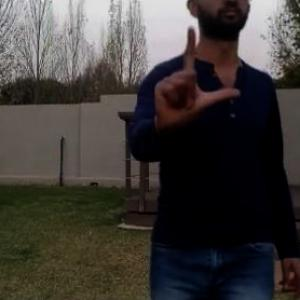land_hand: (151, 26, 239, 130)
